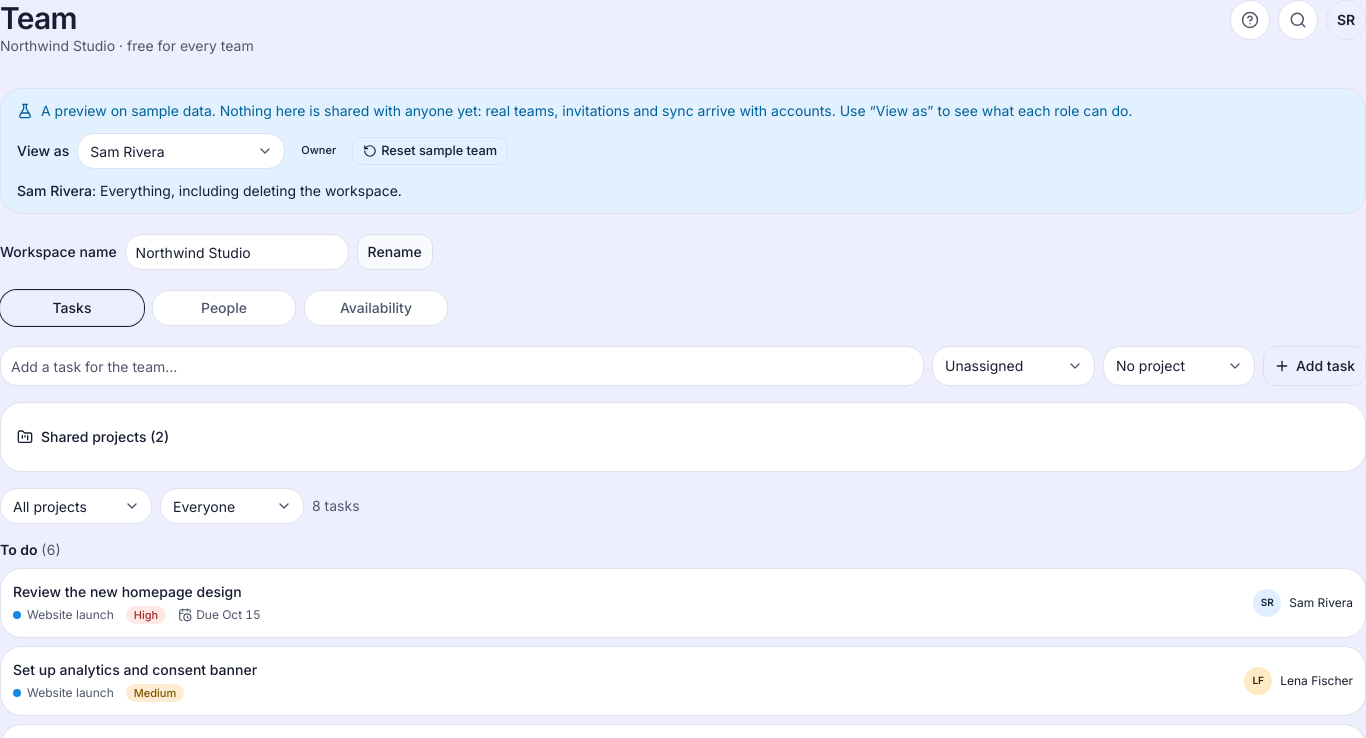
TeamScreen › Availability tab: shows shared hours, the overlap row and workload in text
Click the radio button labelled "Availability".
click(376, 308)  # box [304,290,448,326]
(page scrolled)
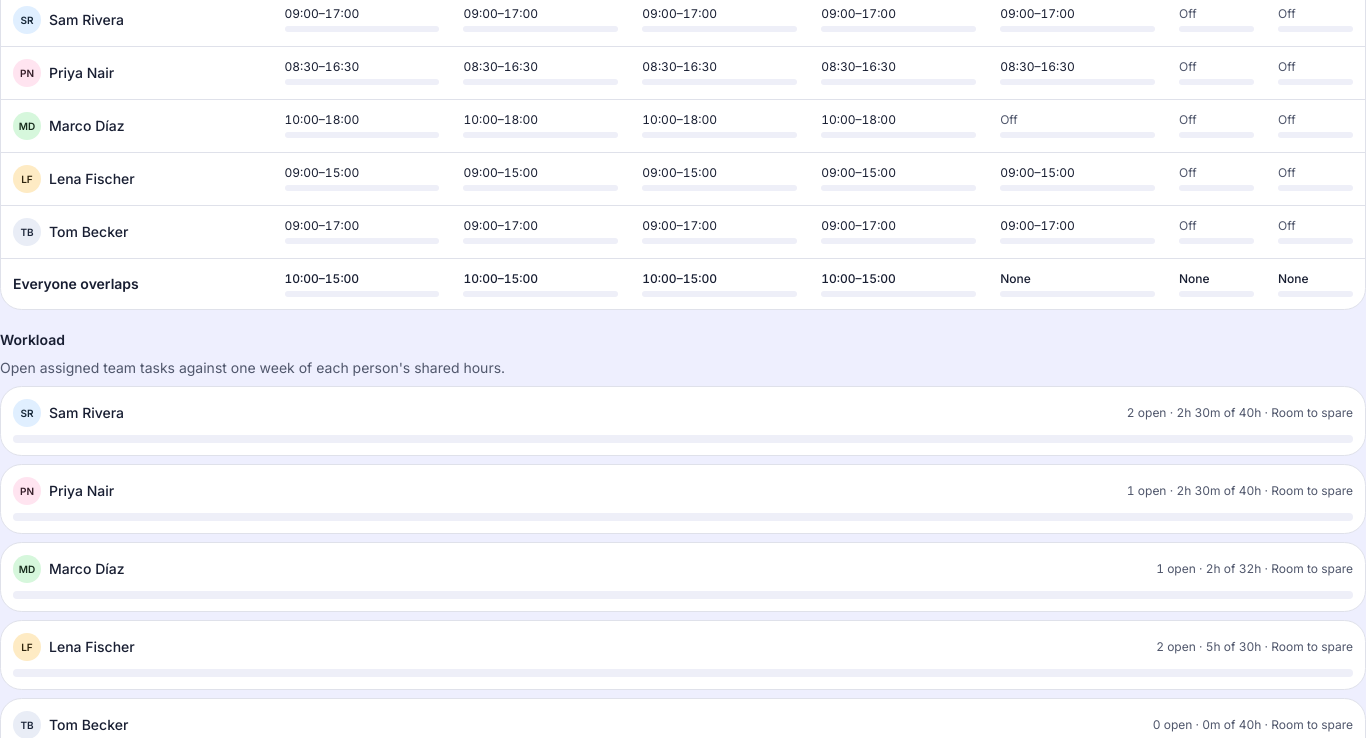
Result: the column heading "Everyone overlaps" is shown at [1,258,272,309]
Result: the 1st text "Room to spare" is shown at [1271,405,1353,420]
